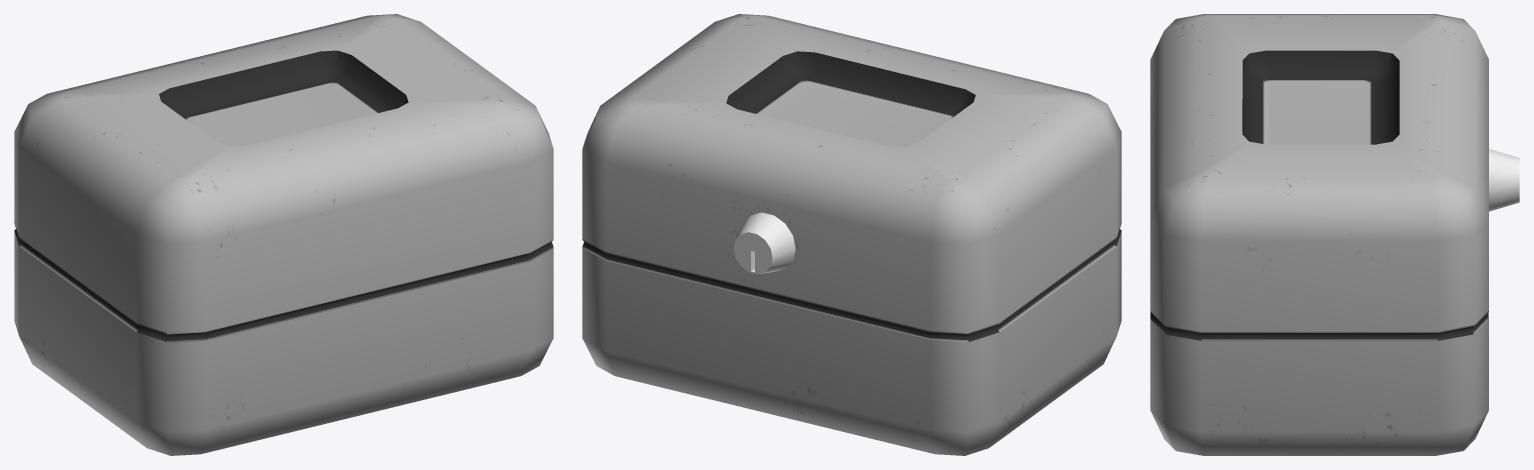
File: smallVaultWGlass.fbx
The picture shows the model from 3 angles, left to right: view 1: azimuth 30°, elevation 25°; view 2: azimuth 150°, elevation 25°; view 3: azimuth 270°, elevation 25°; orthographic projection.
Parts seen in each view (by area): view 1: smallVaultWGlass; view 2: smallVaultWGlass; view 3: smallVaultWGlass.
Part boxes in pixels (x1,y1,x2,y2): smallVaultWGlass: (14, 14, 553, 455); smallVaultWGlass: (582, 14, 1121, 455); smallVaultWGlass: (1150, 14, 1519, 455).
Bounding box in the file's own units: 0.5118 × 0.3232 × 0.393.
1 material, 1 textured.
